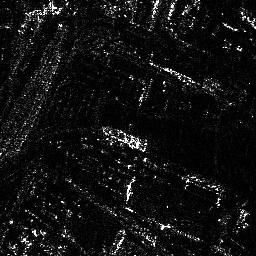ship: (101, 123, 147, 154)
